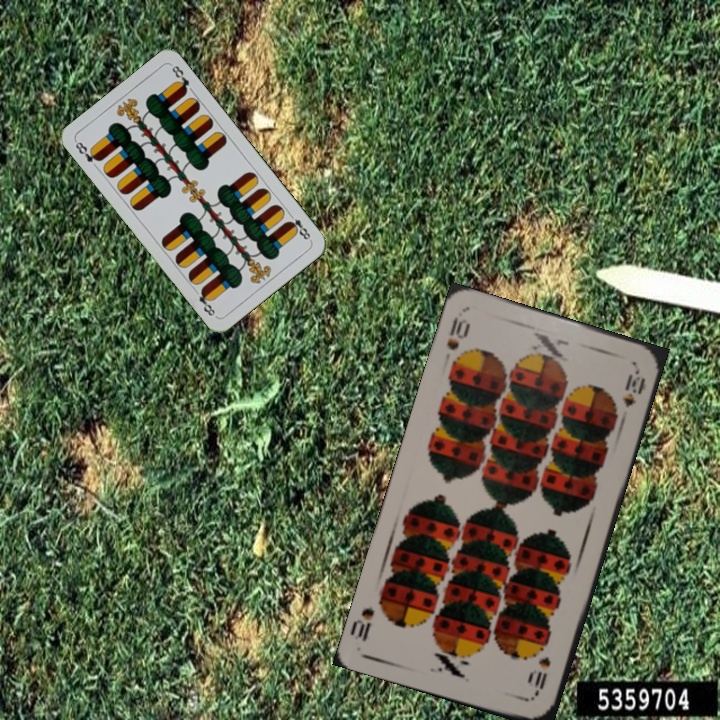E8: (283, 209, 314, 244), (71, 137, 104, 165)
S10: (442, 312, 473, 353), (530, 652, 553, 699)
